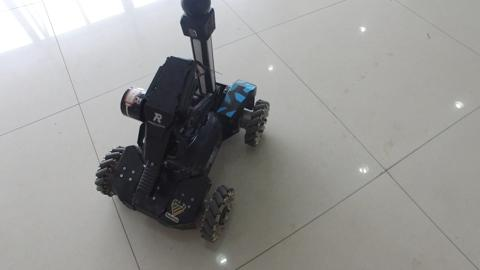chariot: (81, 5, 265, 232)
